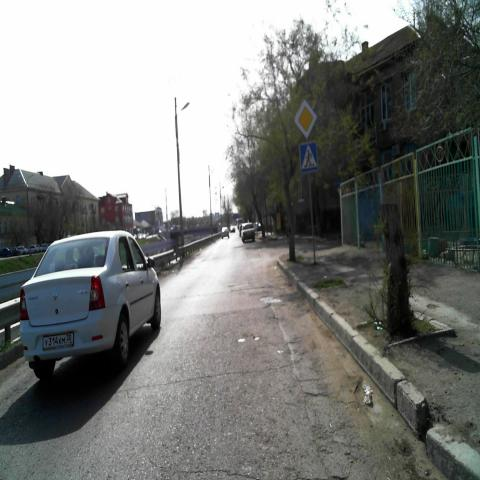2_1: (294, 100, 317, 139)
5_19_1: (300, 142, 318, 173)
